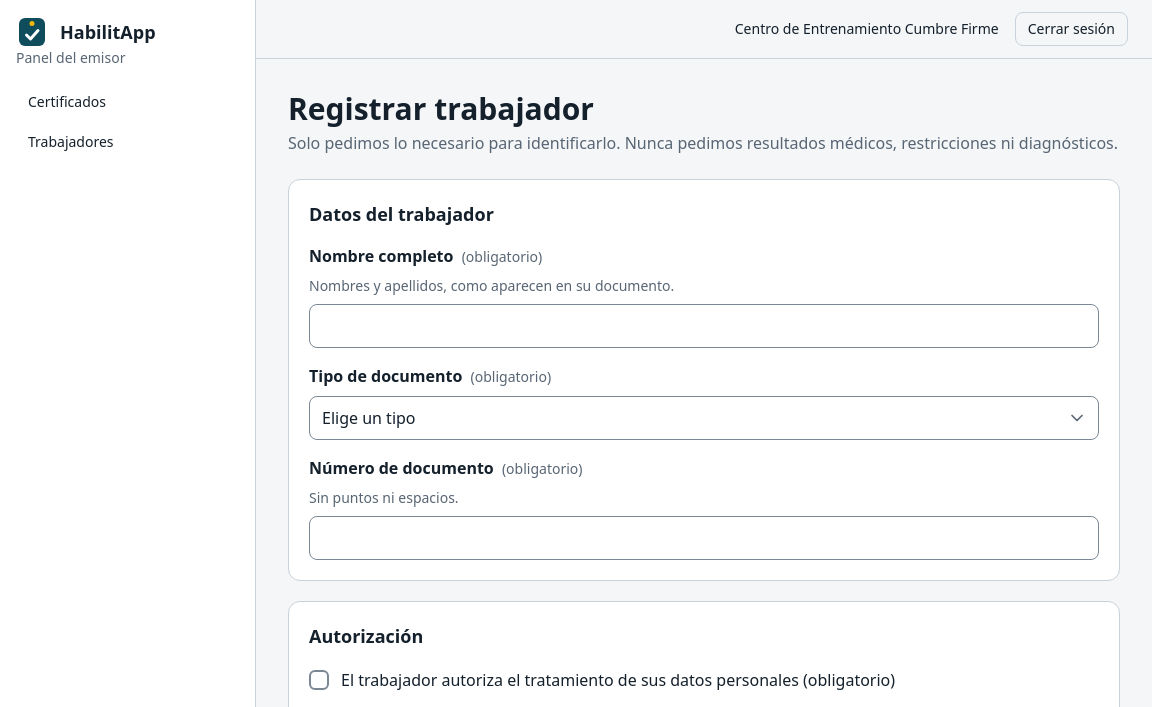
Test: RegisterWorkerPage › hides the duplicate warning when the next submit has validation errors
Type "Carlos Andrés Ramírez Pineda" into the field labelled "Nombre completo (obligatorio)" at (704, 326), box x1=309 y1=304 x2=1099 y2=348
Select "Cédula de ciudadanía" in the dropdown labelled "Tipo de documento (obligatorio)" at (704, 418), box x1=309 y1=396 x2=1099 y2=440
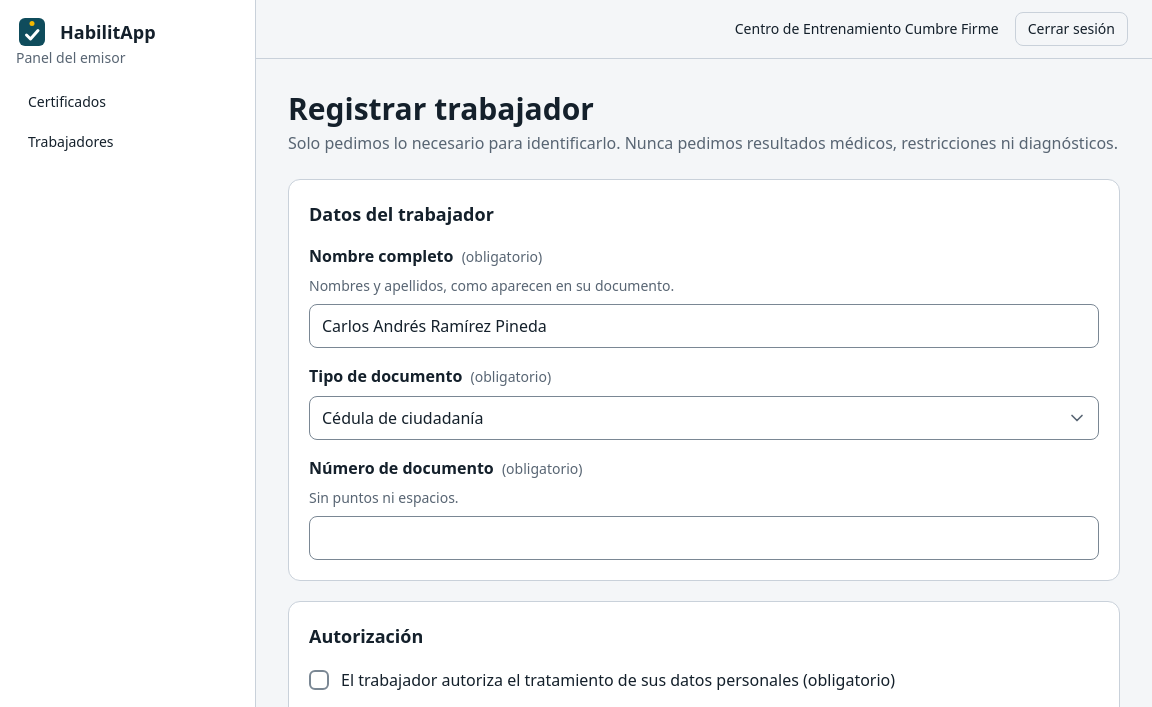
Type "1020345678" into the field labelled "Número de documento (obligatorio)" at (704, 538), box x1=309 y1=516 x2=1099 y2=560
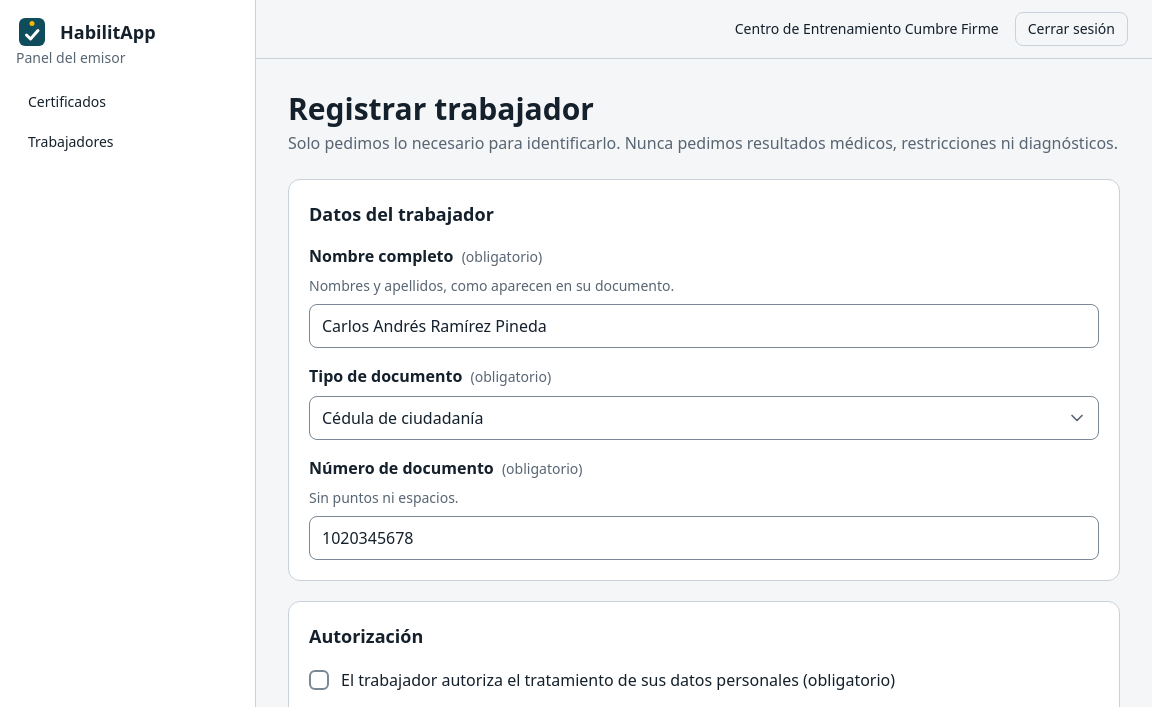
Click the checkbox labelled "autoriza el tratamiento" at (319, 680), box x1=309 y1=670 x2=329 y2=690
(page scrolled)
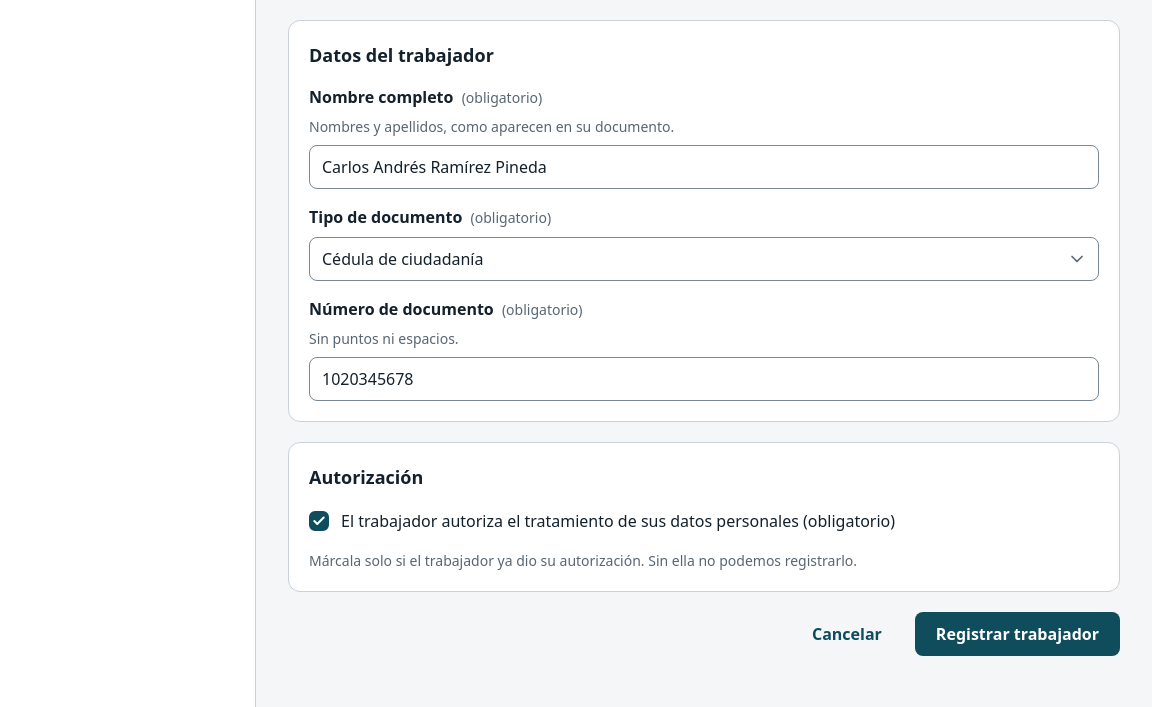
Click the button "Registrar trabajador" at (1017, 634), box x1=915 y1=612 x2=1120 y2=656
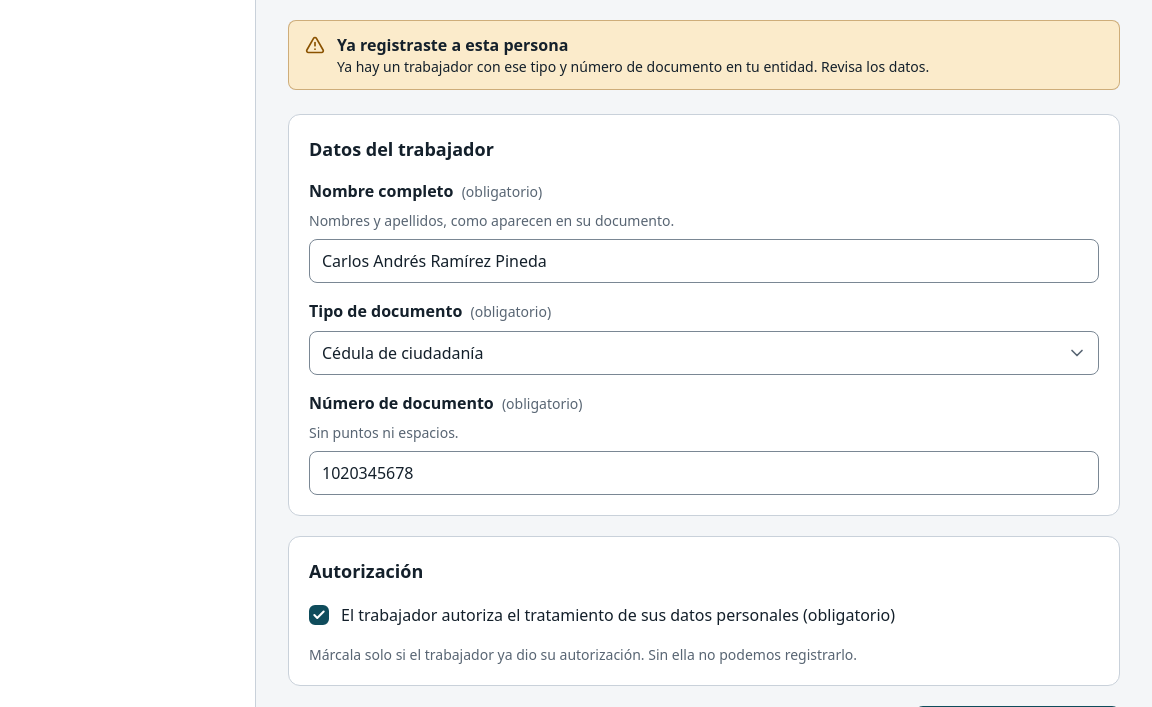
Expected: the text "Ya registraste a esta persona" is shown, x1=337 y1=34 x2=568 y2=56
Replace the text in the field labelled "Número de documento (obligatorio)" with "123" at (704, 473), box x1=309 y1=451 x2=1099 y2=495
(page scrolled)
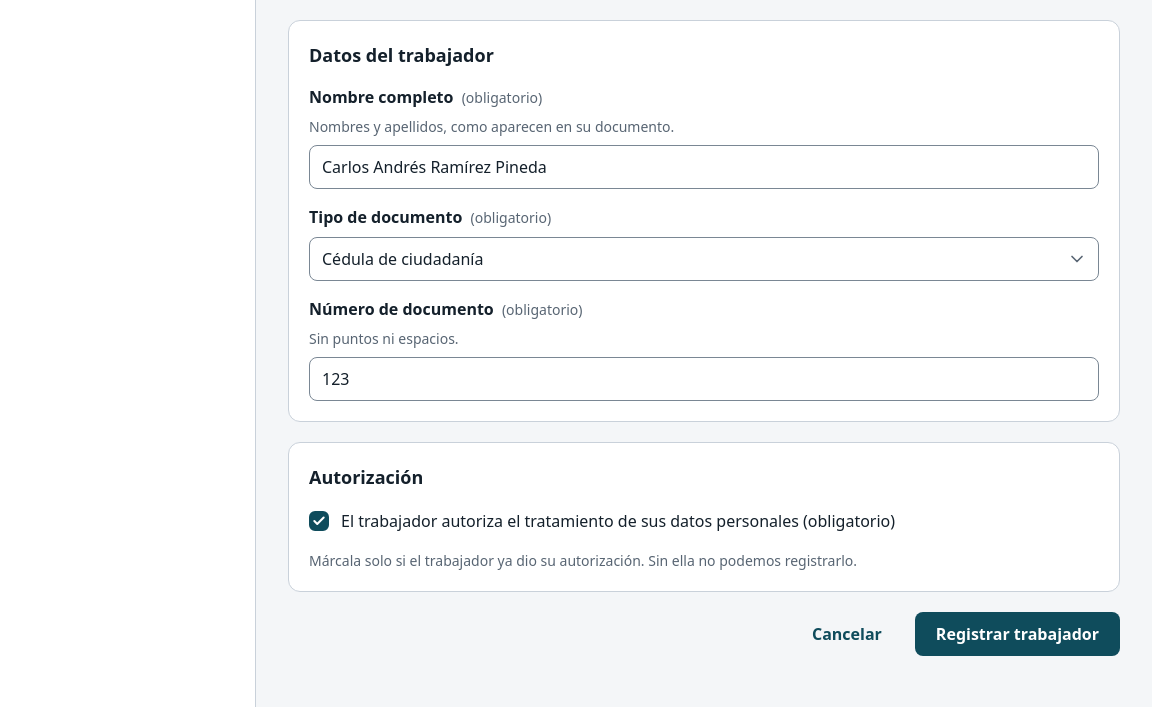
Click the button "Registrar trabajador" at (1017, 634), box x1=915 y1=612 x2=1120 y2=656
(page scrolled)
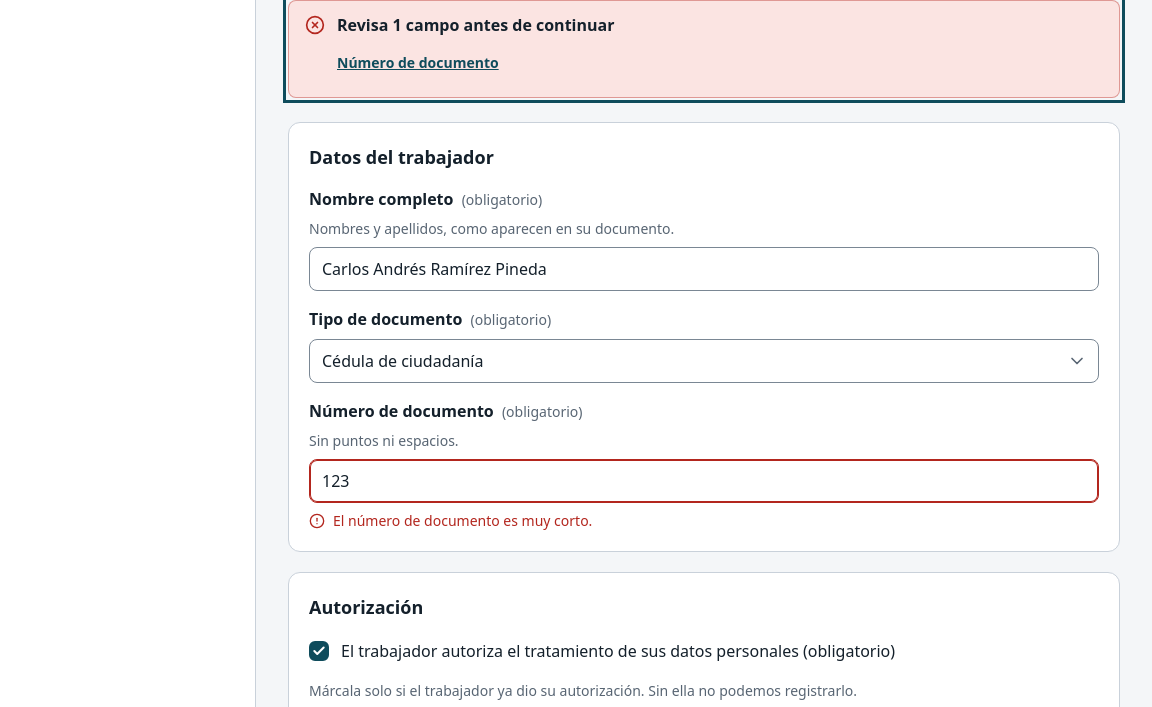
Expected: the text "Revisa 1 campo antes de continuar" is shown, x1=337 y1=14 x2=614 y2=36
